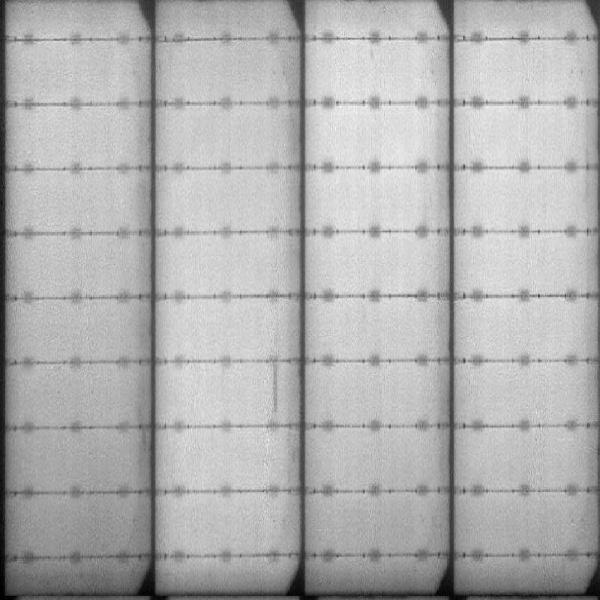scratch: (271, 353, 283, 419)
